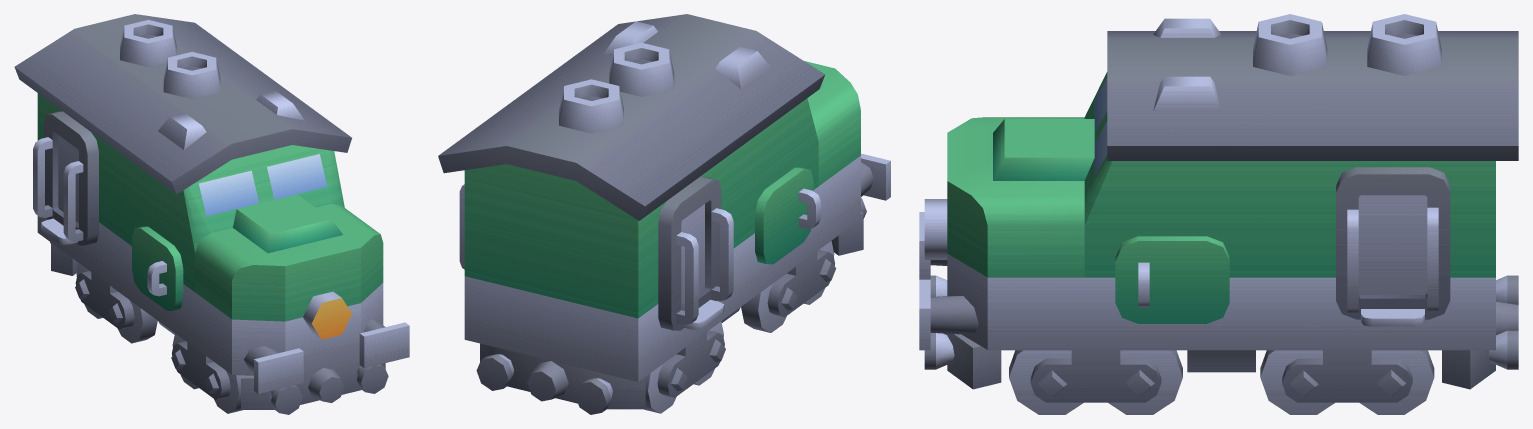
Rendered from train-diesel-box-a.glb.
The picture shows the model from 3 angles, left to right: view 1: azimuth 30°, elevation 25°; view 2: azimuth 150°, elevation 25°; view 3: azimuth 270°, elevation 25°; orthographic projection. The views are drawn at different scales.
Visible parts, largest first — view 1: train-diesel-box-a, wheels-back, wheels-front; view 2: train-diesel-box-a, wheels-front, wheels-back; view 3: train-diesel-box-a, wheels-back, wheels-front.
Part boxes in pixels (x1,y1,x2,y2): train-diesel-box-a: [14, 14, 409, 414]; wheels-back: [75, 263, 157, 343]; wheels-front: [171, 333, 242, 413]; train-diesel-box-a: [438, 14, 890, 414]; wheels-front: [741, 241, 836, 332]; wheels-back: [644, 321, 725, 413]; train-diesel-box-a: [919, 14, 1518, 389]; wheels-back: [1260, 350, 1434, 414]; wheels-front: [1009, 350, 1182, 414].
Bounding box in the file's own units: 1.35 × 1.67 × 2.62.
1 material, 1 textured.
